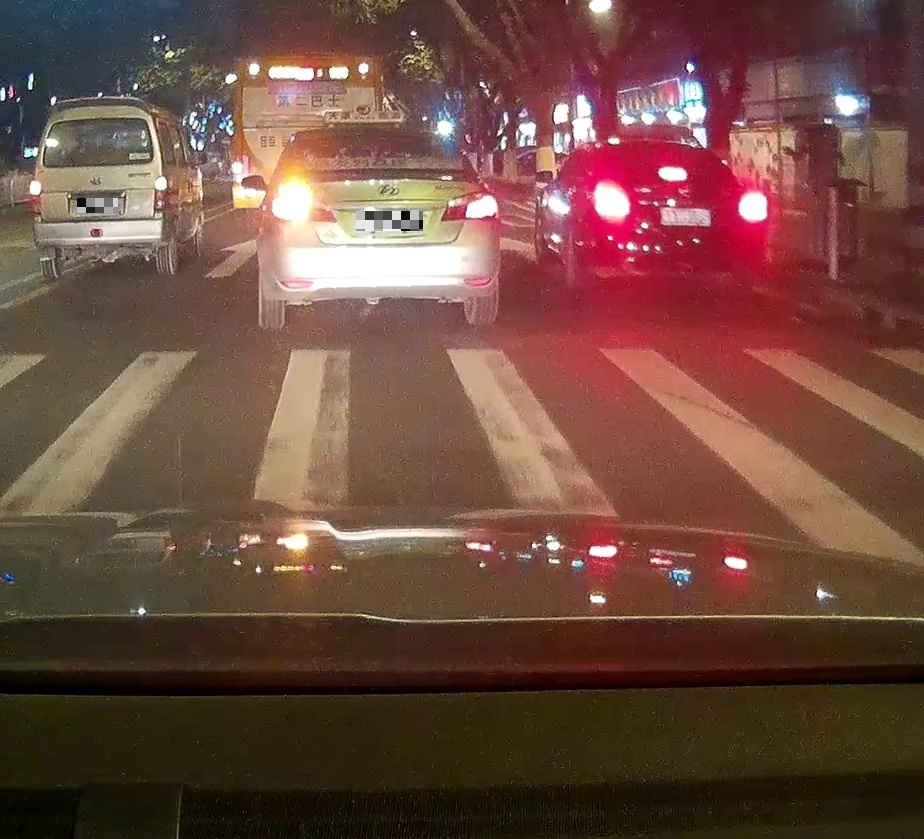L_light: (271, 178, 338, 224), (593, 183, 630, 221), (30, 181, 41, 222)
R_light: (441, 182, 497, 222), (736, 189, 768, 223), (154, 175, 168, 220)
T_light: (658, 166, 688, 181), (359, 133, 389, 141), (85, 117, 108, 121)
night-brake: (575, 139, 769, 293)
night-left: (263, 127, 499, 329)
night-no: (28, 96, 170, 279)
plate_1: (77, 198, 118, 213)
plate_2: (356, 211, 423, 231)
